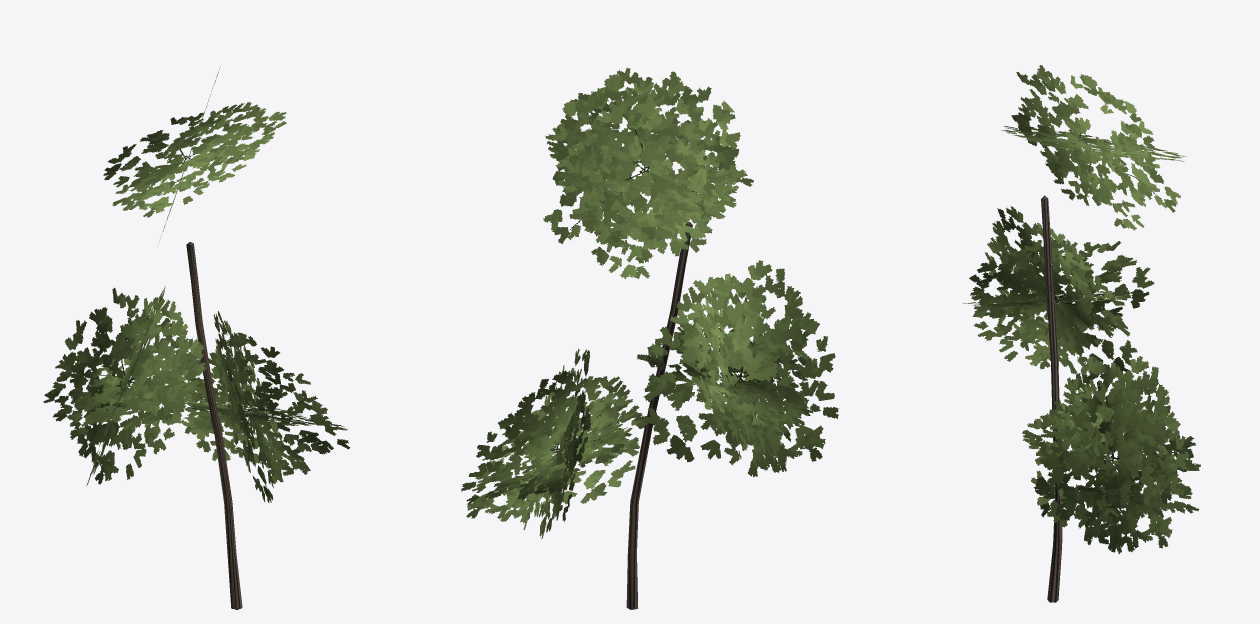
File: seedling-a.lod0.glb
3 views of the same model, side by side, from view 1: azimuth 30°, elevation 25°; view 2: azimuth 150°, elevation 25°; view 3: azimuth 270°, elevation 25° (orthographic). The views are drawn at different scales.
Visible parts, largest first — view 1: foliage, bark; view 2: foliage, bark; view 3: foliage, bark.
Boxes of the visible parts, x1=… form: foliage: x1=43, y1=67, x2=349, y2=502; bark: x1=186, y1=242, x2=242, y2=609; foliage: x1=461, y1=68, x2=838, y2=538; bark: x1=626, y1=221, x2=692, y2=609; foliage: x1=962, y1=65, x2=1200, y2=553; bark: x1=1041, y1=195, x2=1062, y2=602.
Bounding box in the file's own units: 0.2335 × 0.35 × 0.1875.
2 materials, 2 textured.
